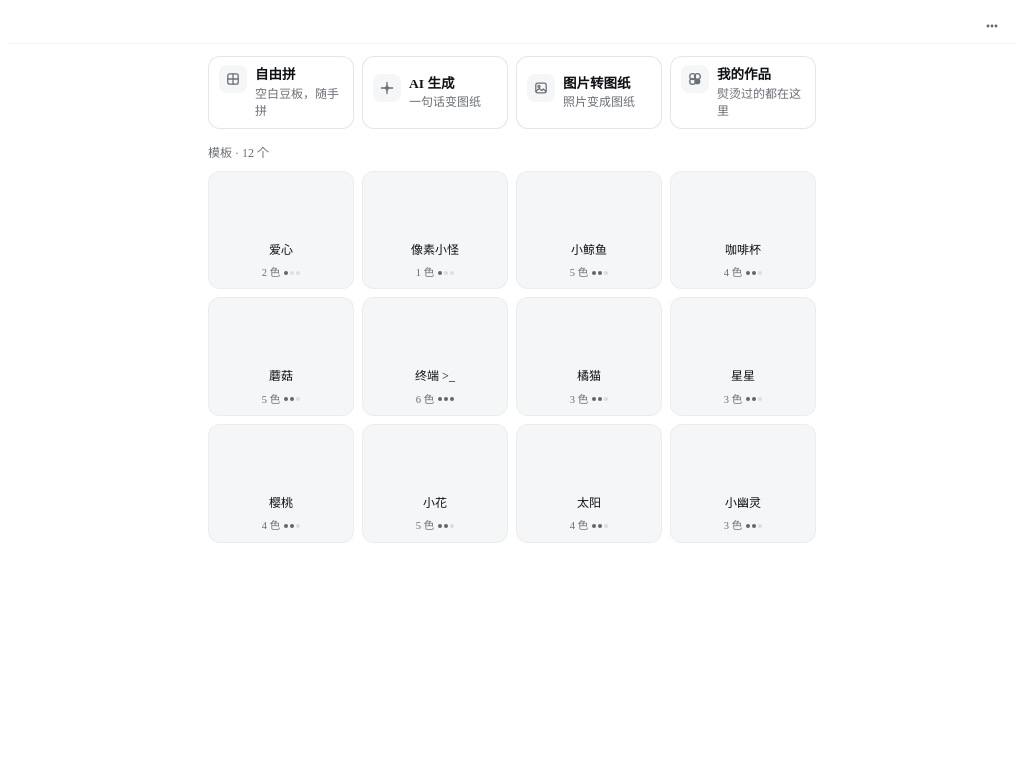
Test case: degradation path, from apply() to a game (host without require.async) › a host with require.async gets a live card (the real chunk loads in the panel)
The image size is (1024, 768).
Step 1. Click the button "图片转图纸 照片变成图纸" → (589,93), box [516, 56, 662, 129]
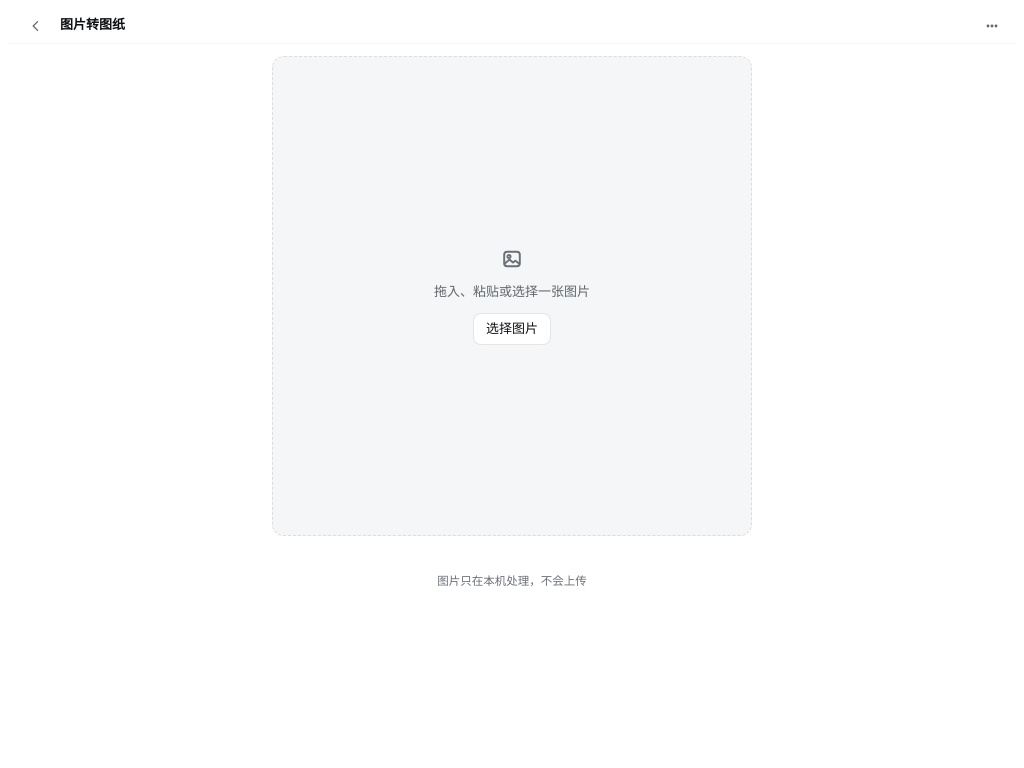
Expected: the heading "图片转图纸" is shown, [60, 16, 125, 35]
Now the button "拖入、粘贴或选择一张图片 选择图片" is shown, box [272, 56, 752, 536]
